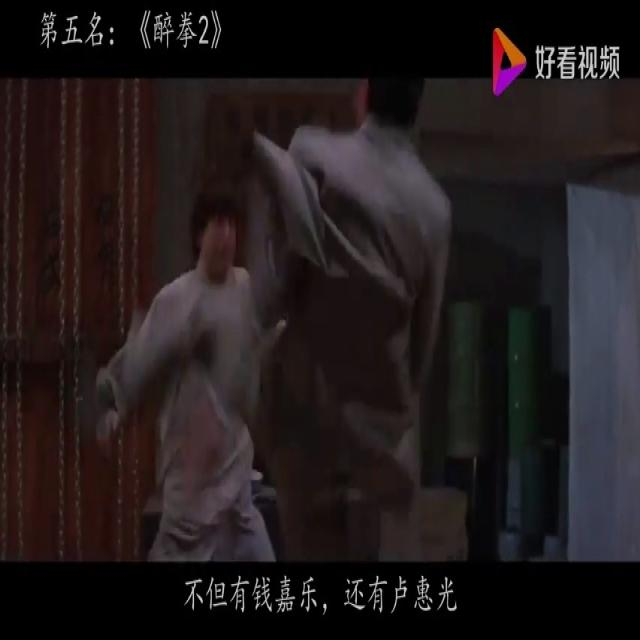fight: (72, 69, 480, 563)
